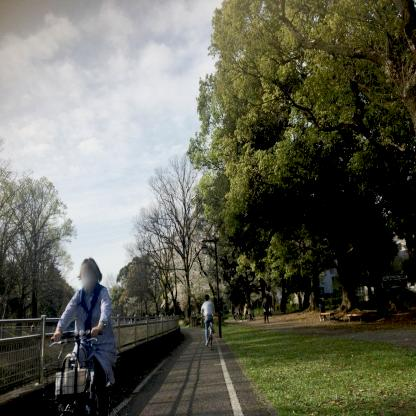Someiyoshino: (157, 193, 231, 318)
